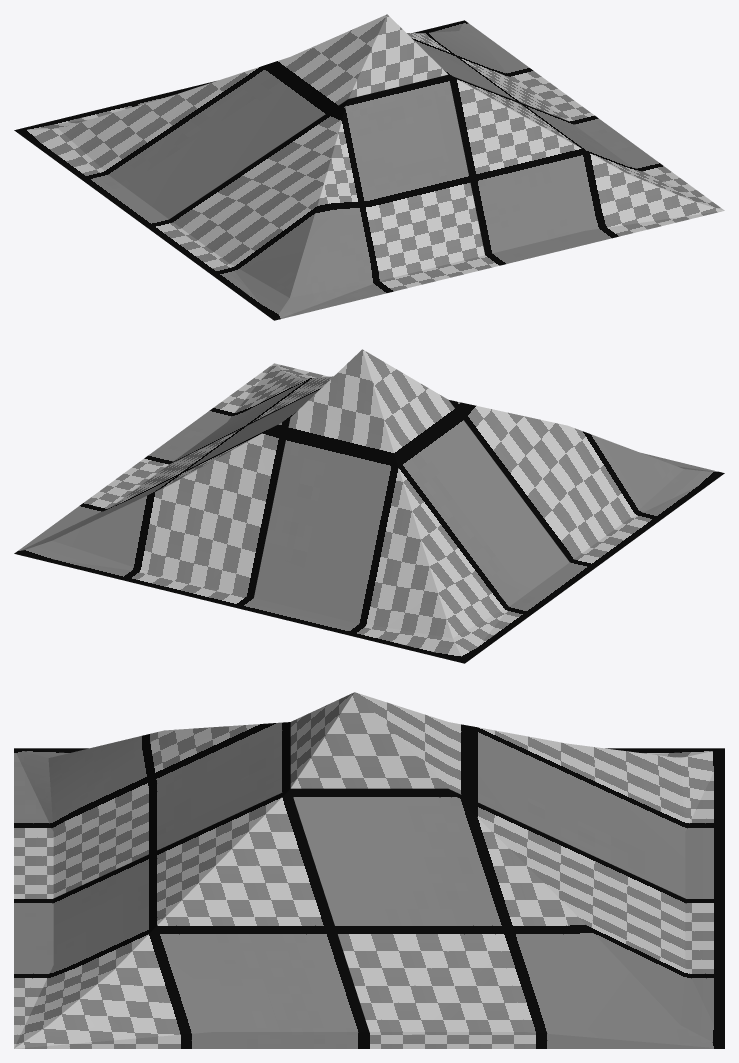
File: roof_6940675.glb
3 views of the same model, one above another, from view 1: azimuth 30°, elevation 25°; view 2: azimuth 150°, elevation 25°; view 3: azimuth 270°, elevation 25° (orthographic). The views are drawn at different scales.
Visible parts, largest first — view 1: mesh; view 2: mesh; view 3: mesh.
Boxes of the visible parts, box(x1,y1,x2,y2) form: mesh: box(14, 14, 724, 320); mesh: box(14, 349, 724, 663); mesh: box(14, 692, 724, 1048).
Size of the model in its own units: 18 by 6 by 18.
1 material, 1 textured.
